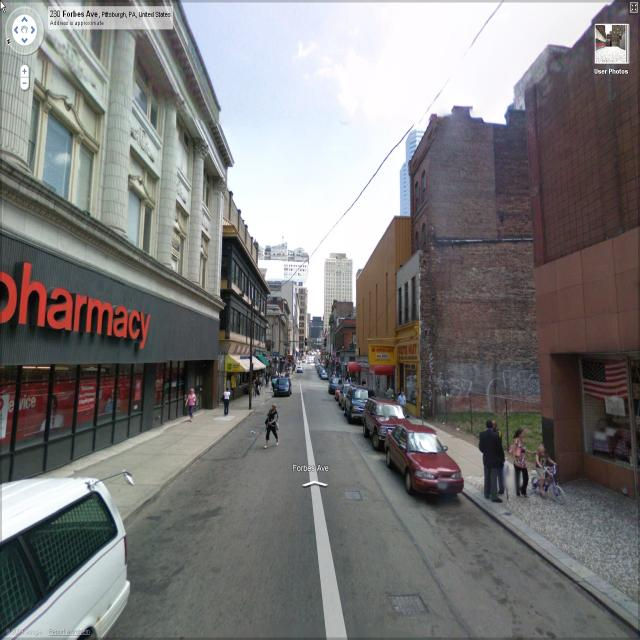b_1: (6, 1, 212, 388), (532, 50, 640, 466), (412, 116, 538, 412), (344, 220, 408, 375), (223, 222, 276, 396), (317, 251, 368, 345), (394, 252, 424, 404), (392, 125, 439, 214)
